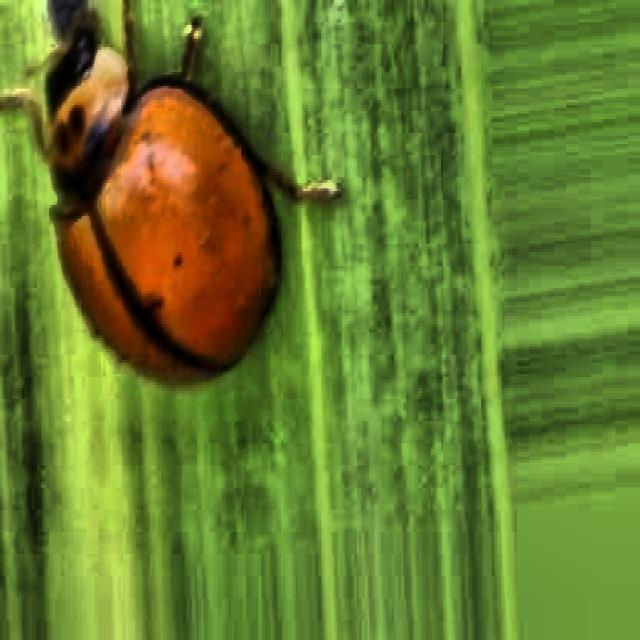Ladybug: (0, 0, 338, 435)
